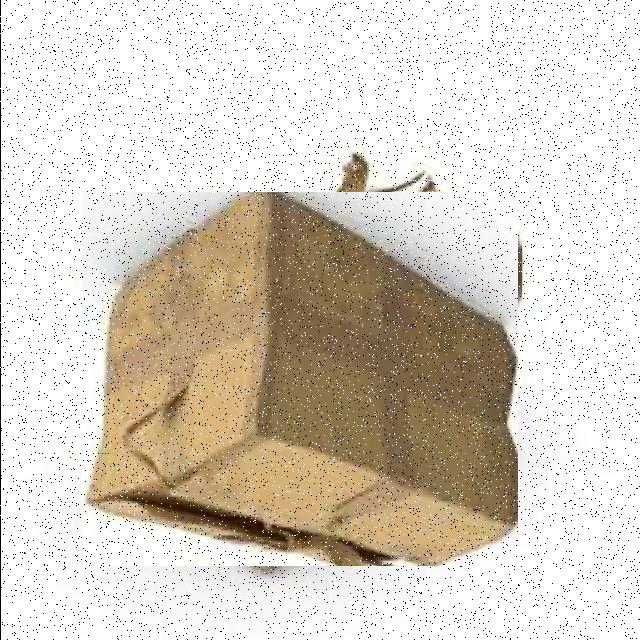defect: (81, 192, 517, 566)
